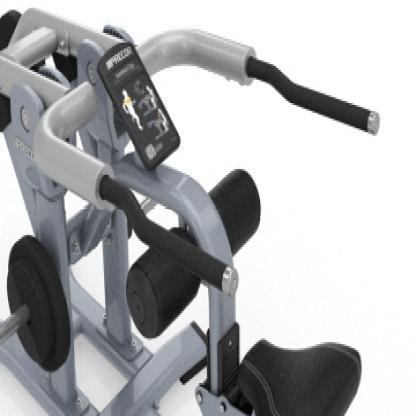seated dip machine: (0, 26, 381, 416)
